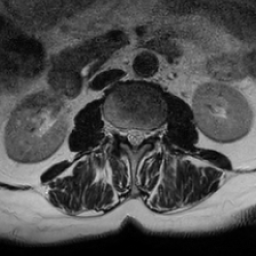CCS_normal: (131, 123, 138, 156)
LFS_stenosis: (147, 124, 154, 144)
LLS_normal: (138, 125, 147, 144)
RFS_normal: (118, 120, 126, 143)
RLS_normal: (126, 124, 132, 147)
